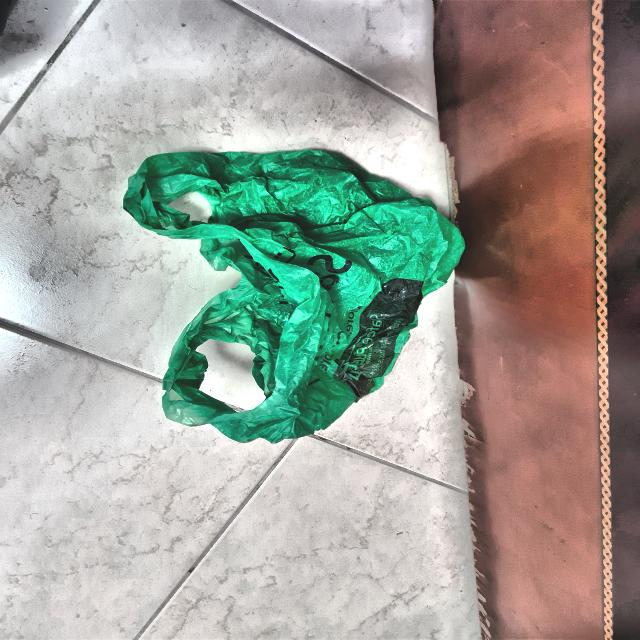plastic bag: (134, 150, 464, 448)
